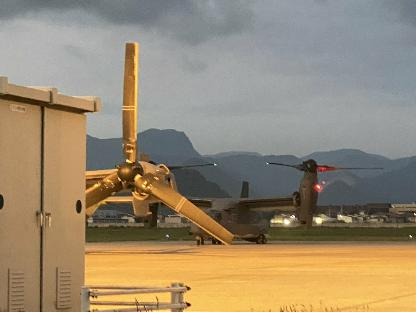Tornado: (84, 42, 233, 246), (141, 158, 384, 246)
